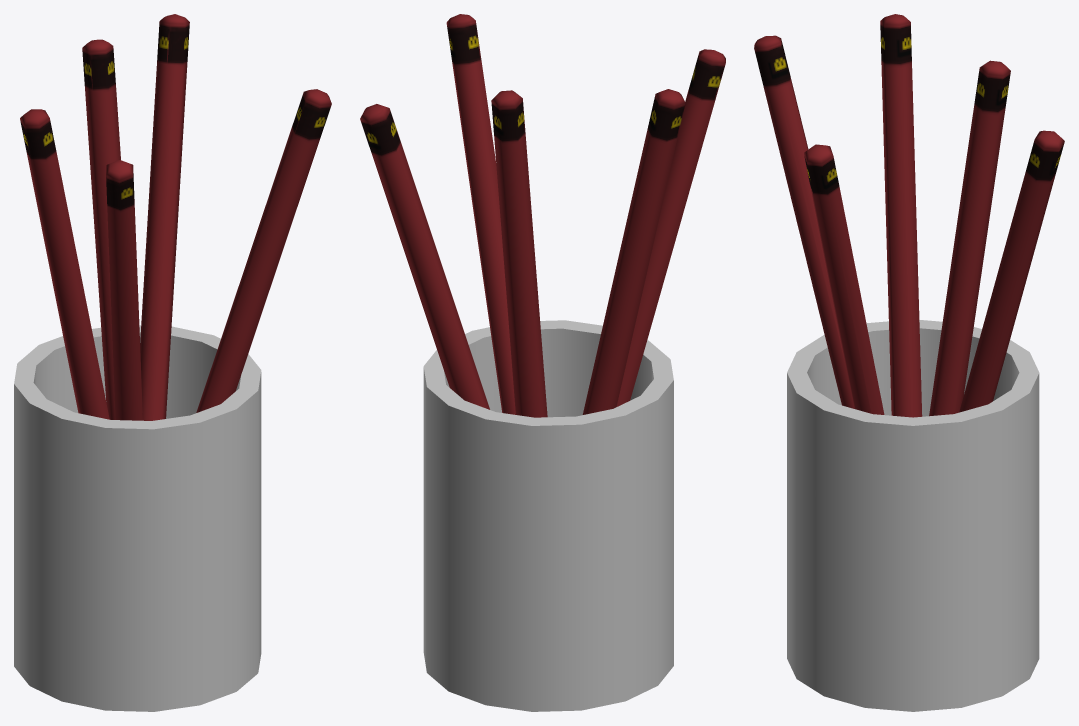
The model's file is Pentate.fbx.
3 renders of one model, left to right at view 1: azimuth 30°, elevation 25°; view 2: azimuth 150°, elevation 25°; view 3: azimuth 270°, elevation 25°, orthographic.
Visible parts, largest first — view 1: Pentate_geo; view 2: Pentate_geo; view 3: Pentate_geo.
Boxes of the visible parts, x1,y1,x2,y2 form: Pentate_geo: (14,14,331,711); Pentate_geo: (360,14,725,711); Pentate_geo: (754,14,1064,711).
Size of the model in its own units: 10.02 by 20.86 by 9.85.
